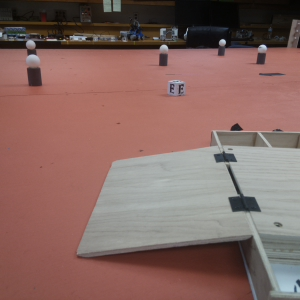obstacle: (24, 56, 45, 87), (159, 43, 171, 69), (257, 45, 268, 66), (26, 41, 38, 57), (217, 39, 227, 57)
side: (237, 241, 300, 299), (209, 120, 300, 148)
slope: (75, 147, 252, 265)
